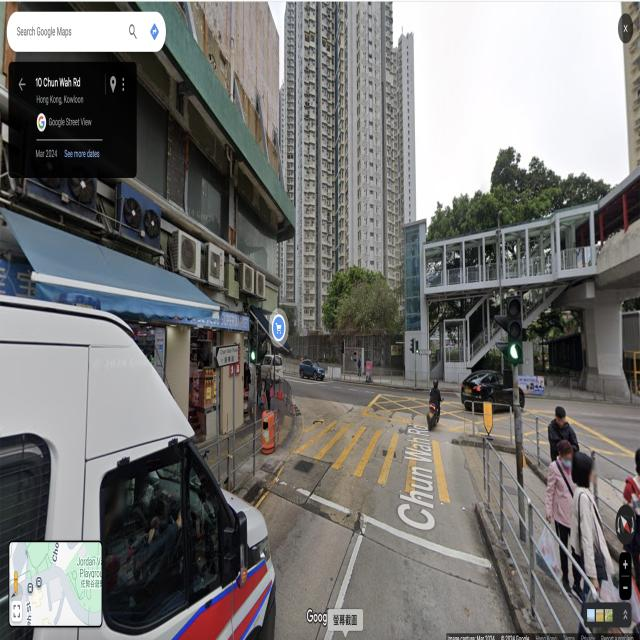Street-Direction-Sign: (216, 344, 239, 368), (419, 349, 431, 355)
